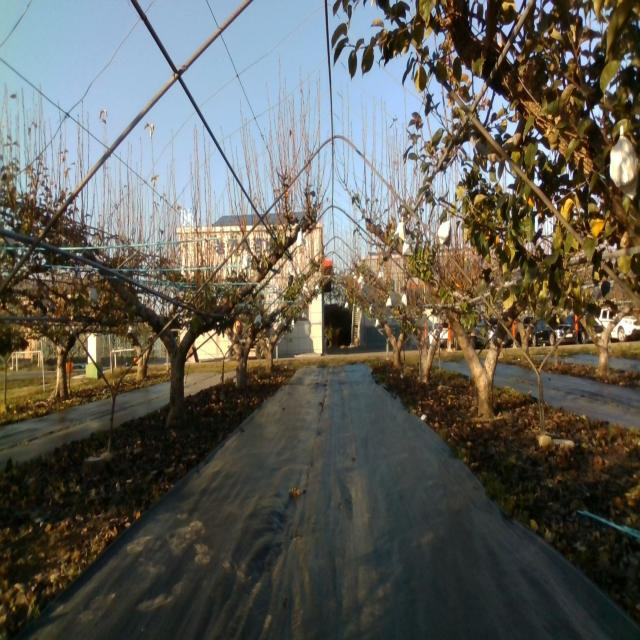pearbags: (609, 129, 640, 201), (438, 220, 452, 248)
